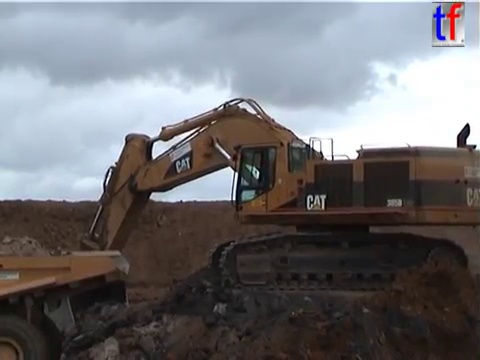excavator: (24, 95, 479, 349)
truck: (1, 245, 132, 360)
